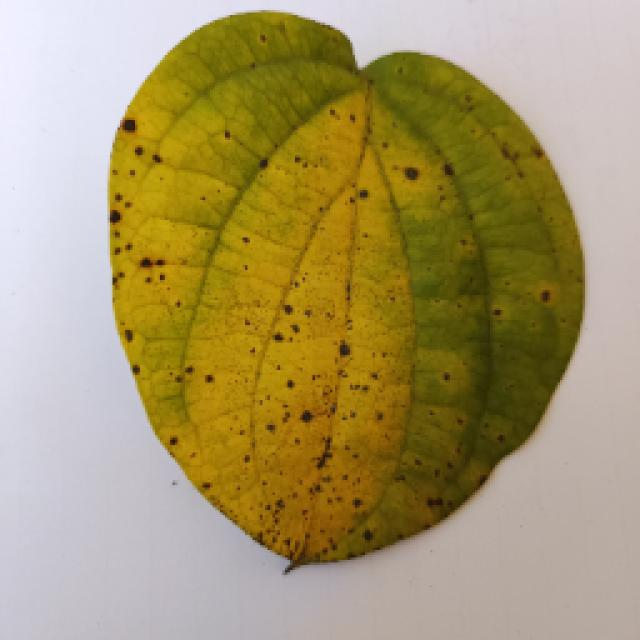slow-decline: (82, 22, 588, 572)
